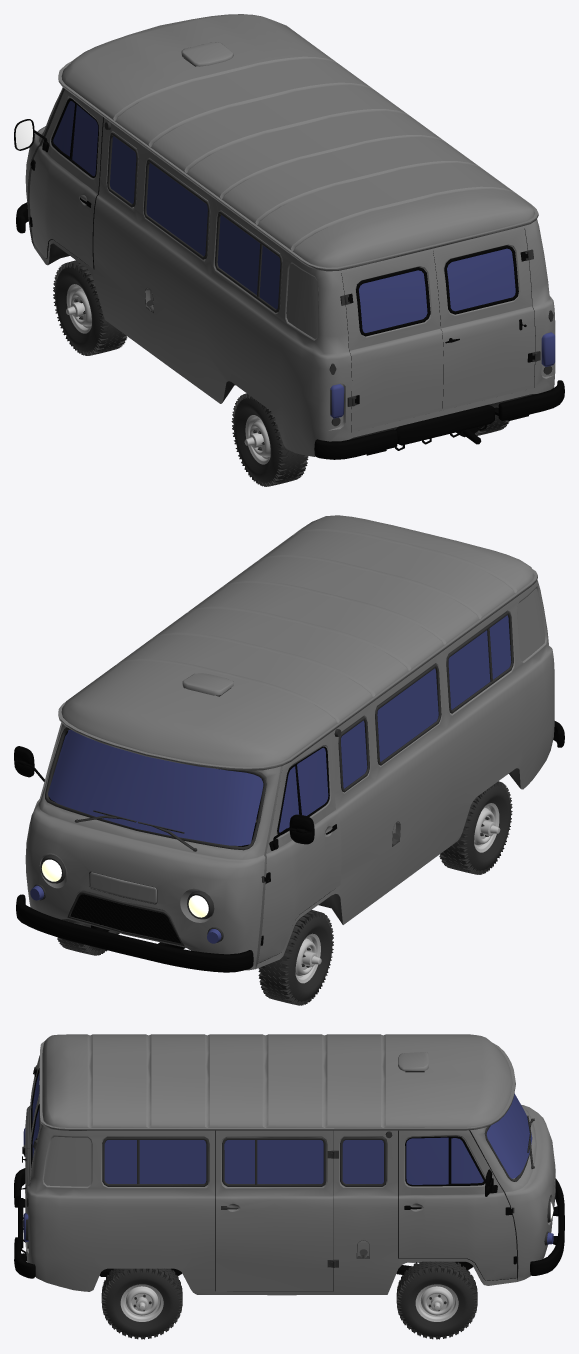
The model's file is van.glb.
3 renders of one model, top to bottom at view 1: azimuth 30°, elevation 25°; view 2: azimuth 150°, elevation 25°; view 3: azimuth 270°, elevation 25°, orthographic. The views are drawn at different scales.
Parts seen in each view (by area): view 1: Kuzov_kuzov_0, doorZL_kuzov_0, dooZP_kuzov_0, Kuzov_Steklo_0, doorL_kuzov_0, Wheel_rezina_0 (×2), bumpZ_metalChern_0, Kuzov_rezina_0, dooZP_Steklo_0, doorZL_Steklo_0, doorL_Steklo_0, Wheel_disk_0 (×2) (+3 smaller); view 2: Kuzov_kuzov_0, lob_Steklo_0, doorL_kuzov_0, Kuzov_Steklo_0, Wheel_rezina_0 (×2), Kuzov_rezina_0, bumpP_metalChern_0, Kuzov_metalChern_0, doorL_Steklo_0, Wheel_disk_0 (×2), doorL_metalChern_0, Kuzov_f1_0 (+1 smaller); view 3: Kuzov_kuzov_0, Kuzov_Steklo_0, doorP_kuzov_0, Wheel_rezina_0 (×2), Kuzov_rezina_0, doorP_Steklo_0, Wheel_disk_0 (×2), lob_Steklo_0, doorP_metalChern_0, bumpZ_metalChern_0, bumpP_metalChern_0, dooZP_kuzov_0.
Part boxes in pixels (x1,y1,x2,y2): Kuzov_kuzov_0: [25, 14, 555, 456]; doorZL_kuzov_0: [341, 250, 443, 432]; dooZP_kuzov_0: [433, 228, 534, 409]; Kuzov_Steklo_0: [110, 136, 555, 418]; doorL_kuzov_0: [29, 89, 103, 268]; Wheel_rezina_0 (×2): [53, 260, 308, 486]; bumpZ_metalChern_0: [314, 380, 564, 459]; Kuzov_rezina_0: [27, 58, 553, 439]; dooZP_Steklo_0: [447, 248, 515, 311]; doorZL_Steklo_0: [359, 270, 427, 332]; doorL_Steklo_0: [53, 101, 98, 176]; Wheel_disk_0 (×2): [66, 284, 270, 464]; Kuzov_kuzov_0: [25, 515, 554, 970]; lob_Steklo_0: [48, 730, 263, 845]; doorL_kuzov_0: [258, 733, 341, 963]; Kuzov_Steklo_0: [30, 615, 511, 943]; Wheel_rezina_0 (×2): [258, 781, 512, 1005]; Kuzov_rezina_0: [33, 611, 520, 946]; bumpP_metalChern_0: [16, 894, 253, 972]; Kuzov_metalChern_0: [70, 779, 262, 949]; doorL_Steklo_0: [279, 747, 328, 832]; Wheel_disk_0 (×2): [295, 803, 500, 983]; doorL_metalChern_0: [260, 746, 336, 962]; Kuzov_f1_0: [42, 859, 208, 917]; Kuzov_kuzov_0: [25, 1034, 555, 1295]; Kuzov_Steklo_0: [23, 1128, 553, 1244]; doorP_kuzov_0: [399, 1130, 516, 1280]; Wheel_rezina_0 (×2): [101, 1261, 477, 1339]; Kuzov_rezina_0: [22, 1065, 555, 1291]; doorP_Steklo_0: [406, 1137, 483, 1184]; Wheel_disk_0 (×2): [120, 1284, 458, 1321]; lob_Steklo_0: [486, 1093, 532, 1178]; doorP_metalChern_0: [398, 1130, 517, 1280]; bumpZ_metalChern_0: [14, 1168, 35, 1278]; bumpP_metalChern_0: [530, 1178, 564, 1275]; dooZP_kuzov_0: [25, 1097, 42, 1202].
Size of the model in its own units: 2.66 by 2.39 by 5.11.
